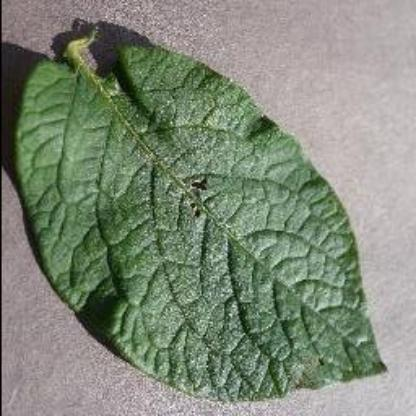Healthy-plant: (13, 31, 391, 404)
